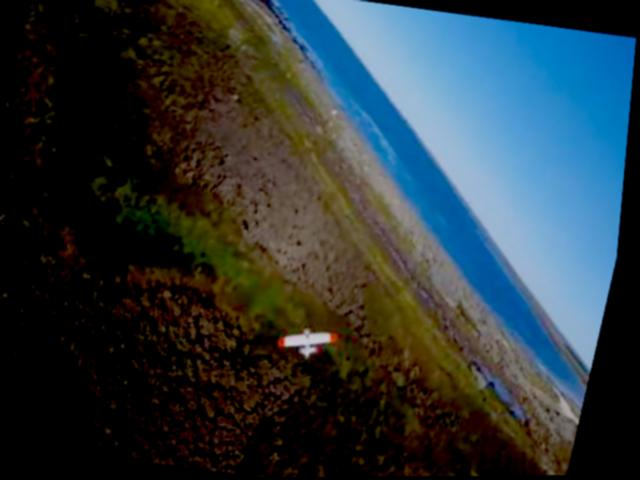uav: (280, 320, 348, 362)
